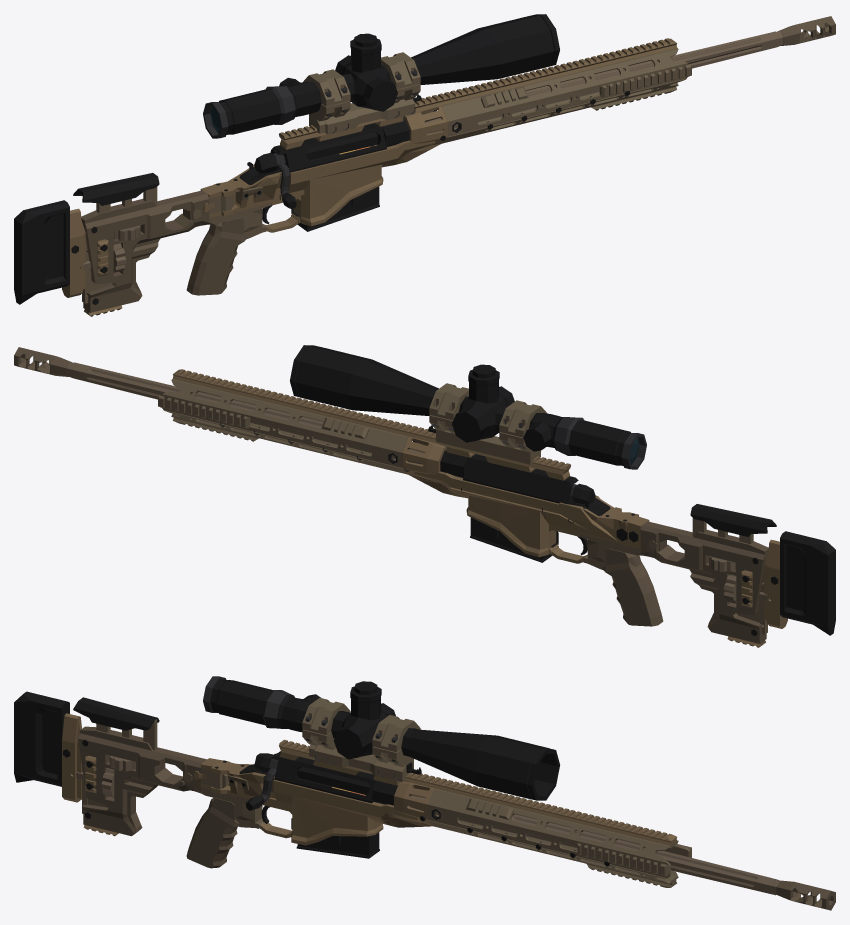
File: msr.glb
The picture shows the model from 3 angles, top to bottom: view 1: azimuth 30°, elevation 25°; view 2: azimuth 150°, elevation 25°; view 3: azimuth 330°, elevation 25°; orthographic projection.
Visible parts, largest first — view 1: MSR_Body, Magazine; view 2: MSR_Body, Magazine; view 3: MSR_Body, Magazine.
Boxes of the visible parts, <box> form: MSR_Body: <box>14,14,835,316</box>; Magazine: <box>297,146,379,231</box>; MSR_Body: <box>14,345,835,647</box>; Magazine: <box>470,517,552,562</box>; MSR_Body: <box>14,676,835,910</box>; Magazine: <box>296,778,379,858</box>.
Size of the model in its own units: 1.17 by 0.2952 by 0.099.
